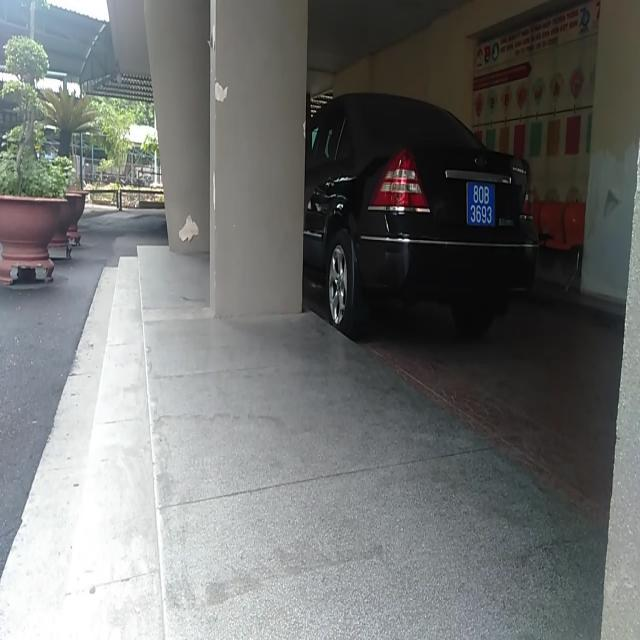bien_xanh: (463, 176, 498, 234)
